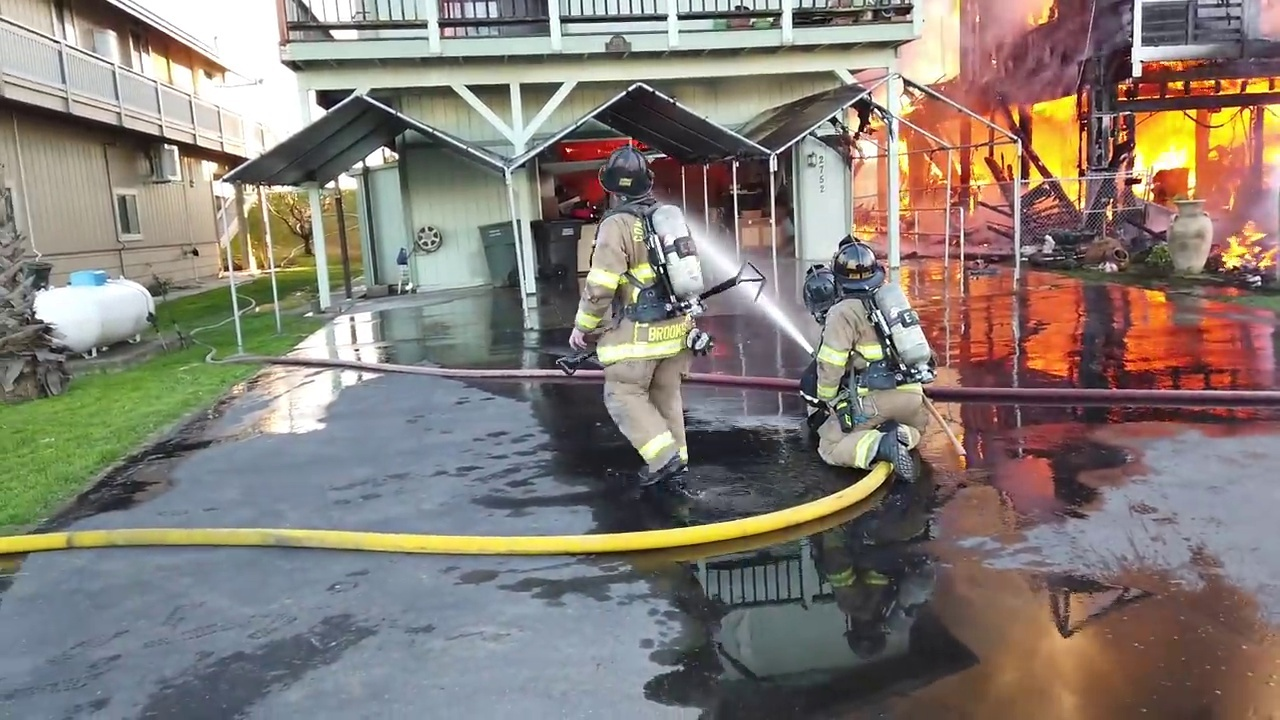fire: (896, 61, 1280, 278), (555, 131, 646, 160)
smoke: (936, 2, 1083, 101), (1246, 1, 1280, 41)
